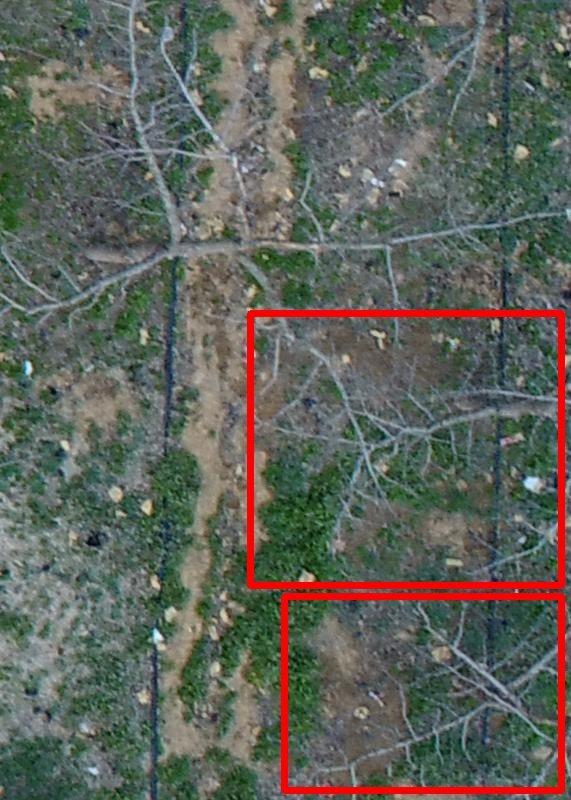apple: (250, 313, 561, 585), (284, 596, 561, 790)
